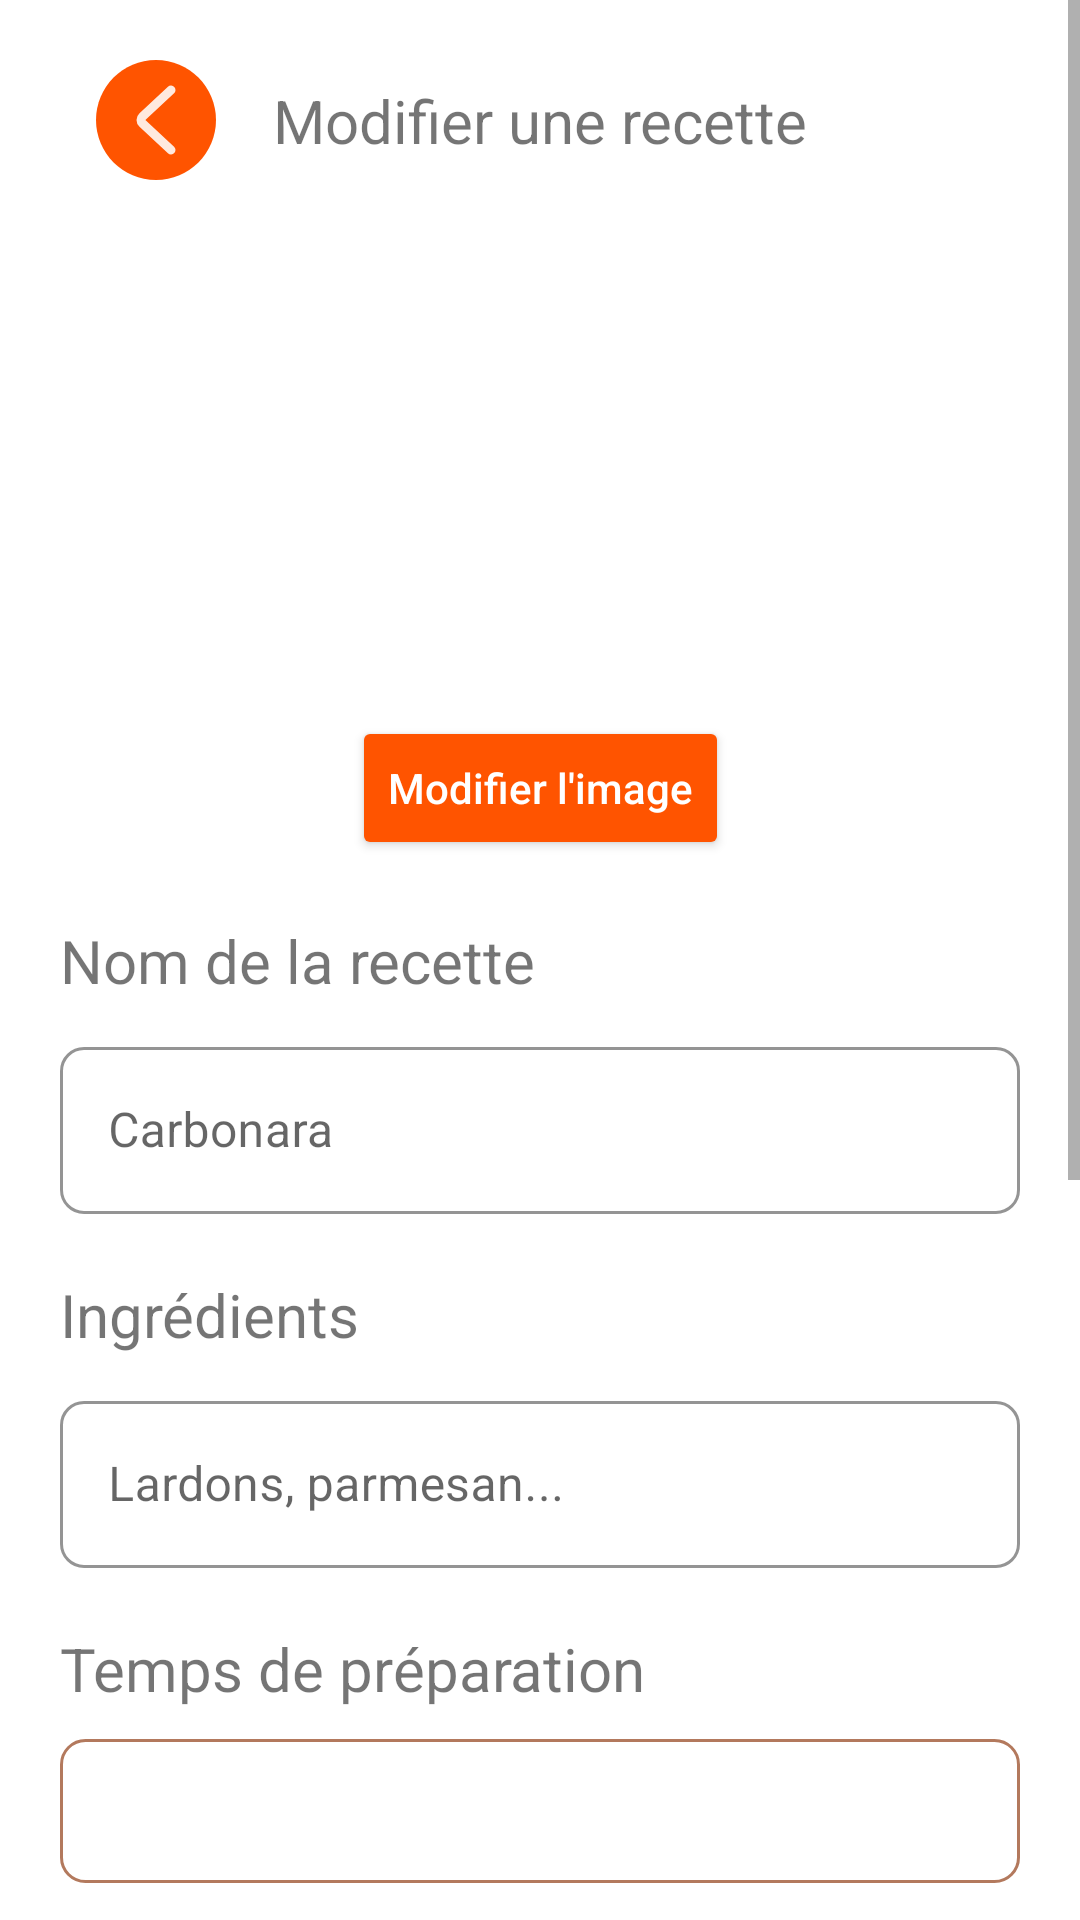

Screen size 1080px x 1920px. Icon name, then its box in pixels as (x1, y1, x2, y2):
Retour: (96, 60, 216, 180)
